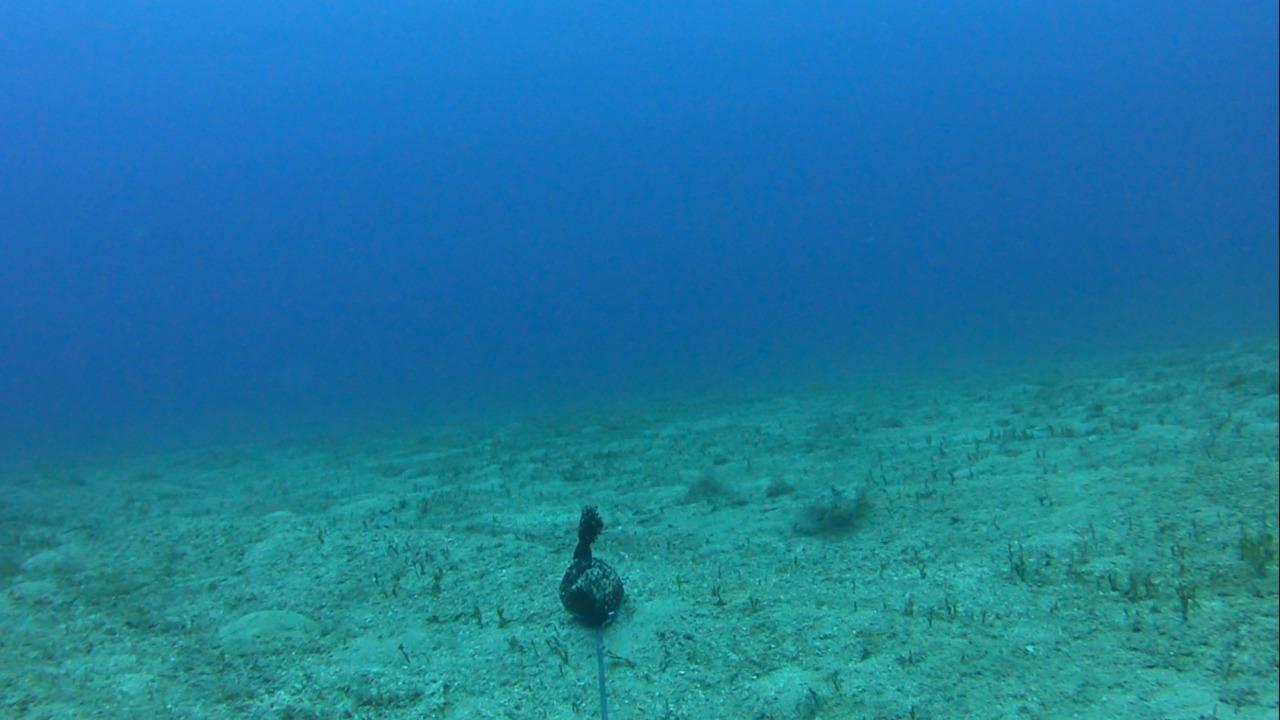dactylopterus: (781, 463, 872, 531)
